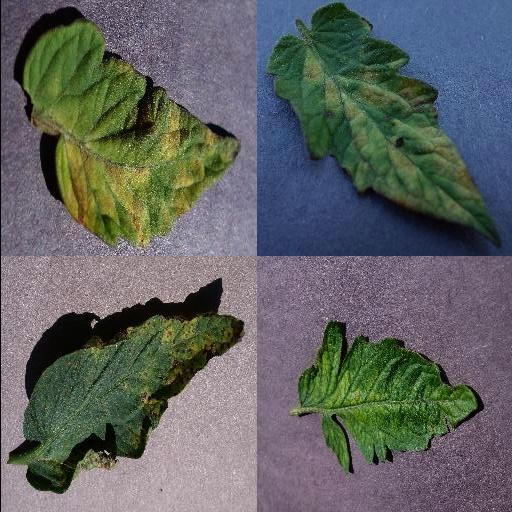Leaf Mold: (264, 2, 502, 249), (21, 23, 241, 250)
Mosaic Virus: (299, 319, 481, 475)
Septoria: (21, 313, 245, 495)
